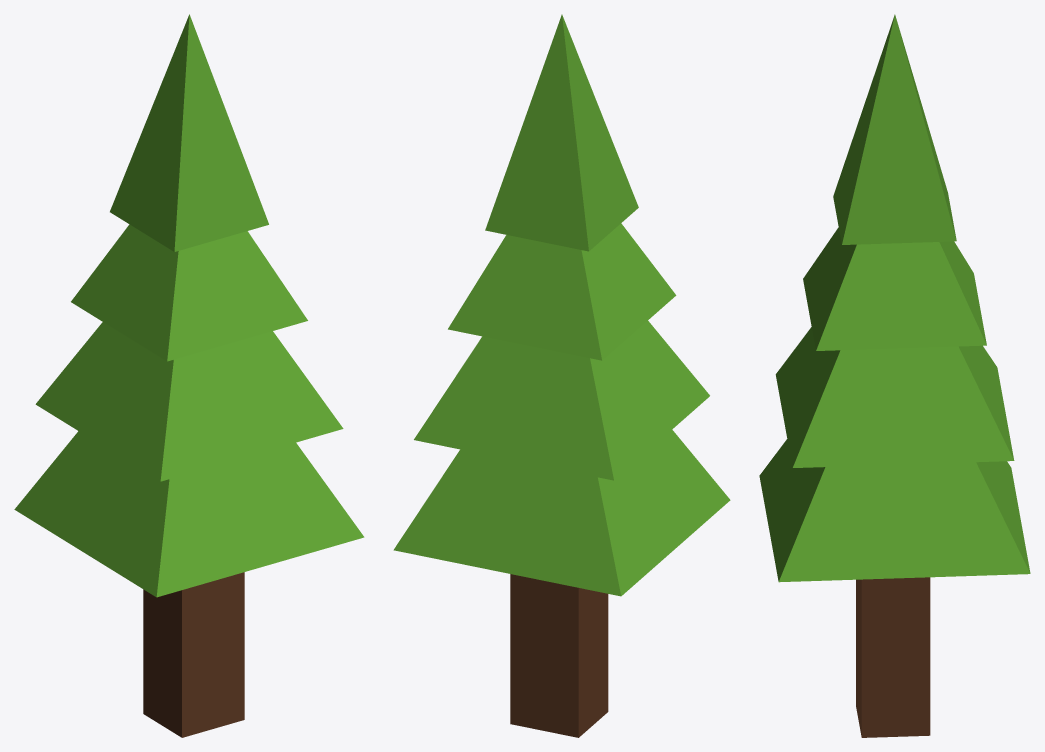
Rendered from Tree 2.fbx.
The picture shows the model from 3 angles, left to right: view 1: azimuth 30°, elevation 25°; view 2: azimuth 150°, elevation 25°; view 3: azimuth 270°, elevation 25°; orthographic projection.
Visible parts, largest first — view 1: TreeTop_4, TreeTop_3, TreeTop_2, TreeTop, Wood; view 2: TreeTop_4, TreeTop_3, TreeTop_2, TreeTop, Wood; view 3: TreeTop_4, TreeTop_3, TreeTop_2, TreeTop, Wood.
Part boxes in pixels (<box>): TreeTop_4: <box>14,431,364,597</box>; TreeTop_3: <box>35,322,343,481</box>; TreeTop_2: <box>71,224,307,361</box>; TreeTop: <box>110,14,268,251</box>; Wood: <box>143,572,244,737</box>; TreeTop_4: <box>393,429,730,596</box>; TreeTop_3: <box>414,321,709,480</box>; TreeTop_2: <box>448,223,676,360</box>; TreeTop: <box>485,14,638,251</box>; Wood: <box>510,574,608,737</box>; TreeTop_4: <box>759,439,1030,582</box>; TreeTop_3: <box>775,327,1014,467</box>; TreeTop_2: <box>803,227,986,350</box>; TreeTop: <box>833,14,956,244</box>; Wood: <box>856,577,930,737</box>.
Size of the model in its own units: 2756 by 7906 by 2756.
